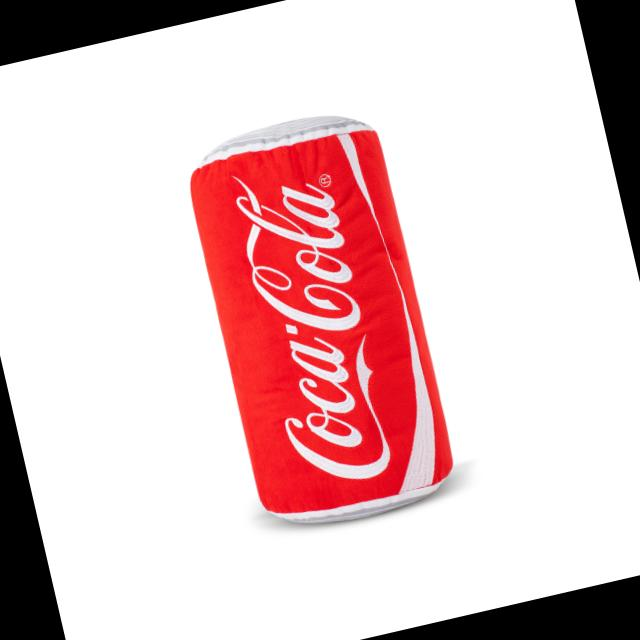cocacola: (174, 93, 476, 546)
